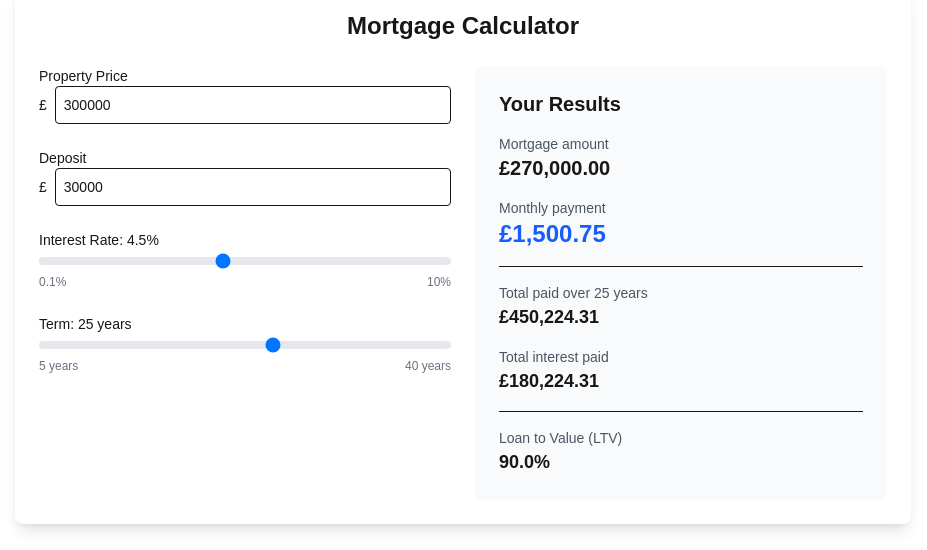
Test: MortgageCalculator › updates calculations when interest rate changes
Step 1. Set the slider labelled "Interest Rate: 4.5%" to "6" → (283, 261), box [39,257,451,265]
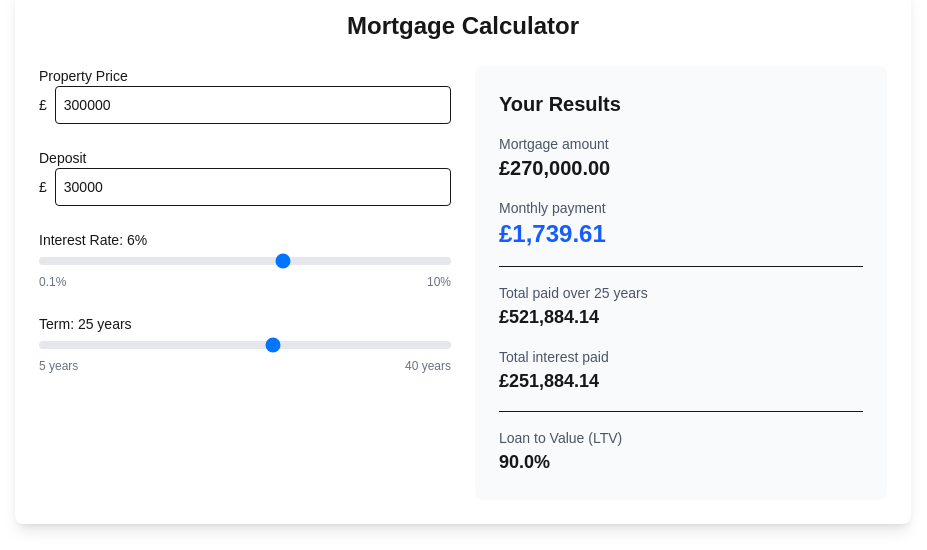
Expected: the text "£1,739.61" is shown, [499,220,606,247]
